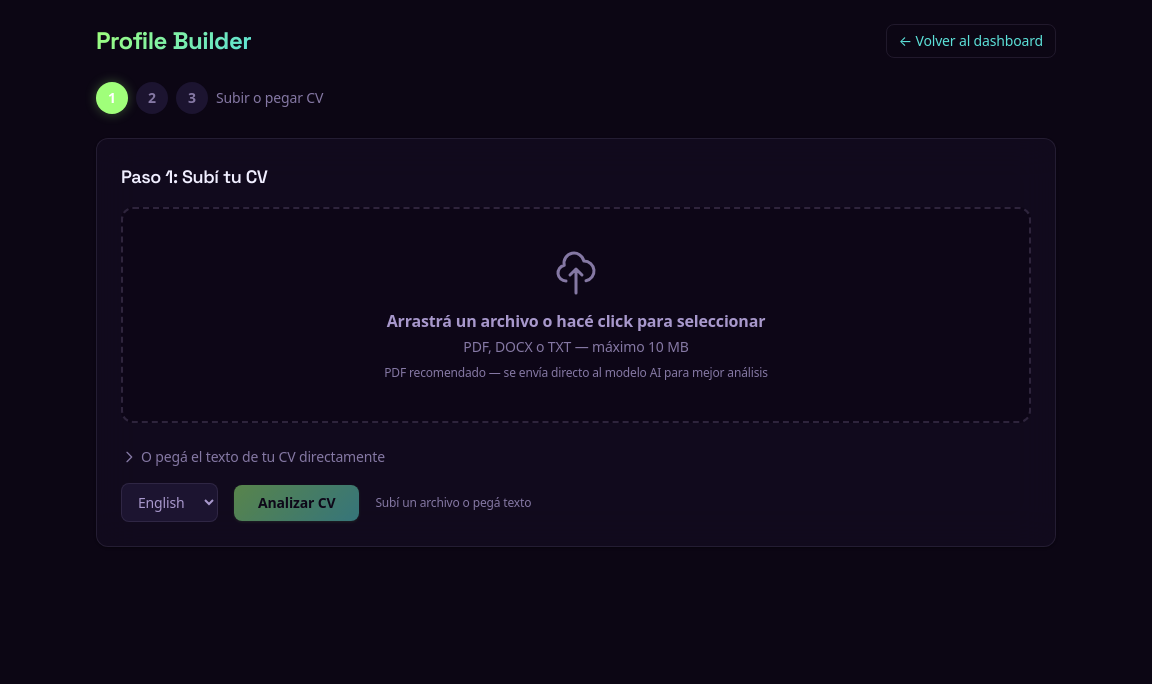
Test case: ProfileBuilderPage › shows text input when toggle is clicked
The image size is (1152, 684).
Click the button "O pegá el texto de tu CV directamente" at (253,457), box [121,447,385,467]
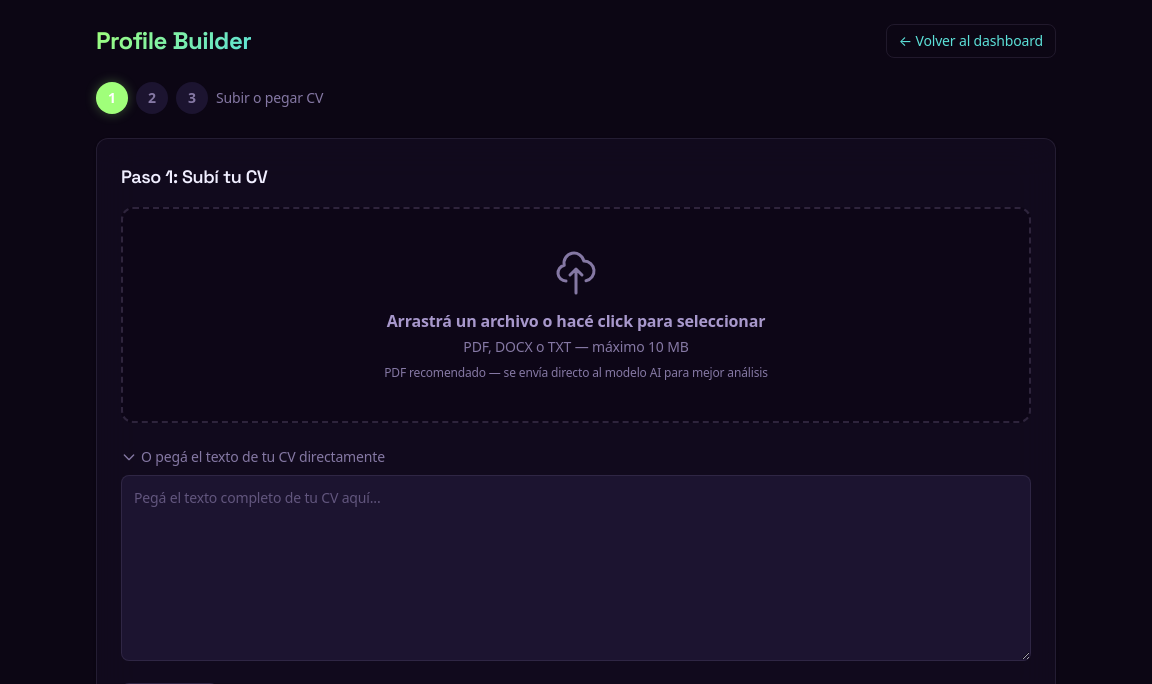
Expected: the text box with placeholder "Pegá el texto completo de tu CV aquí..." is shown, [121,475,1031,661]
